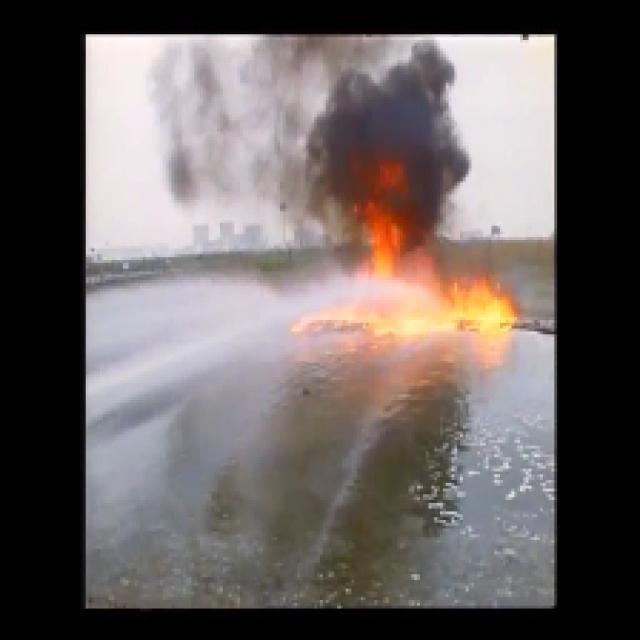Fire: (450, 282, 508, 320)
Smoke: (328, 92, 444, 205)
